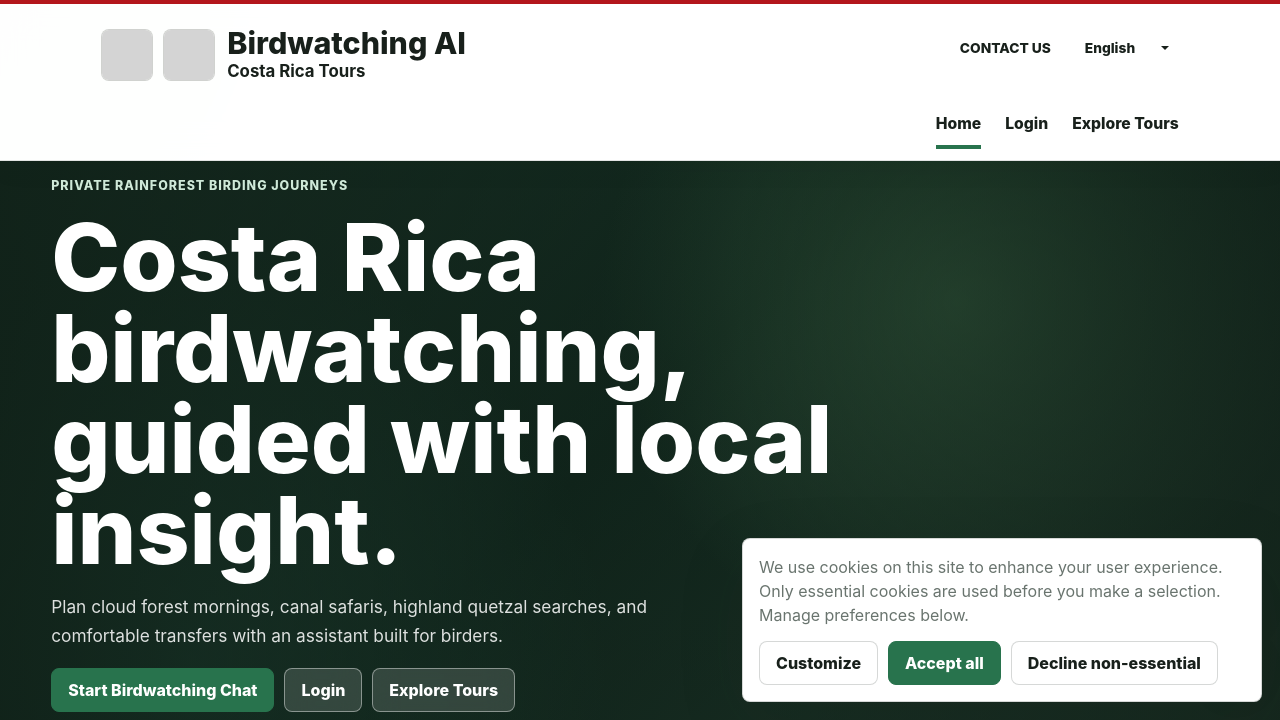
App authentication flow › dismisses the login modal without leaving the homepage
The width and height of the screenshot is (1280, 720).
What coordinates should you click on to do the following:
click the button "Login" next to "Home"
I would click on:
 (1027, 124)
Its box is [1005,100,1048,148].
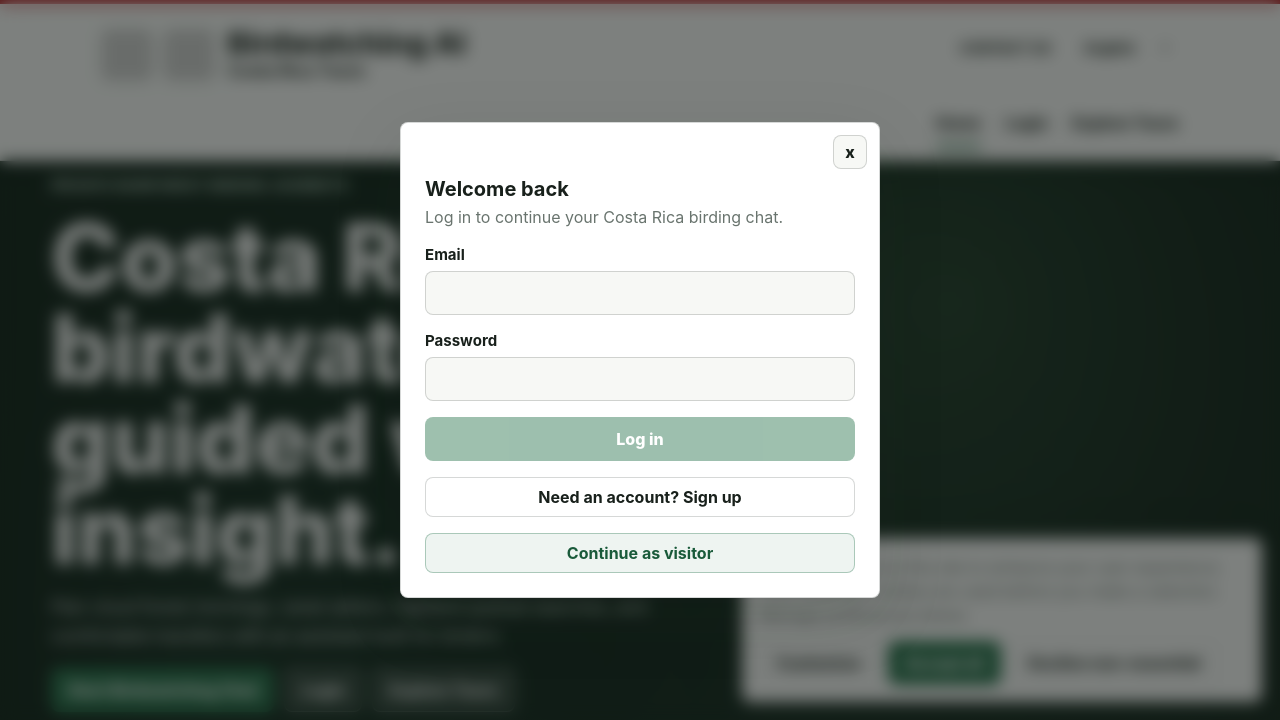
What coordinates should you click on to do the following:
click the button named "close login"
I would click on:
 (850, 152)
Its box is [833,135,867,169].
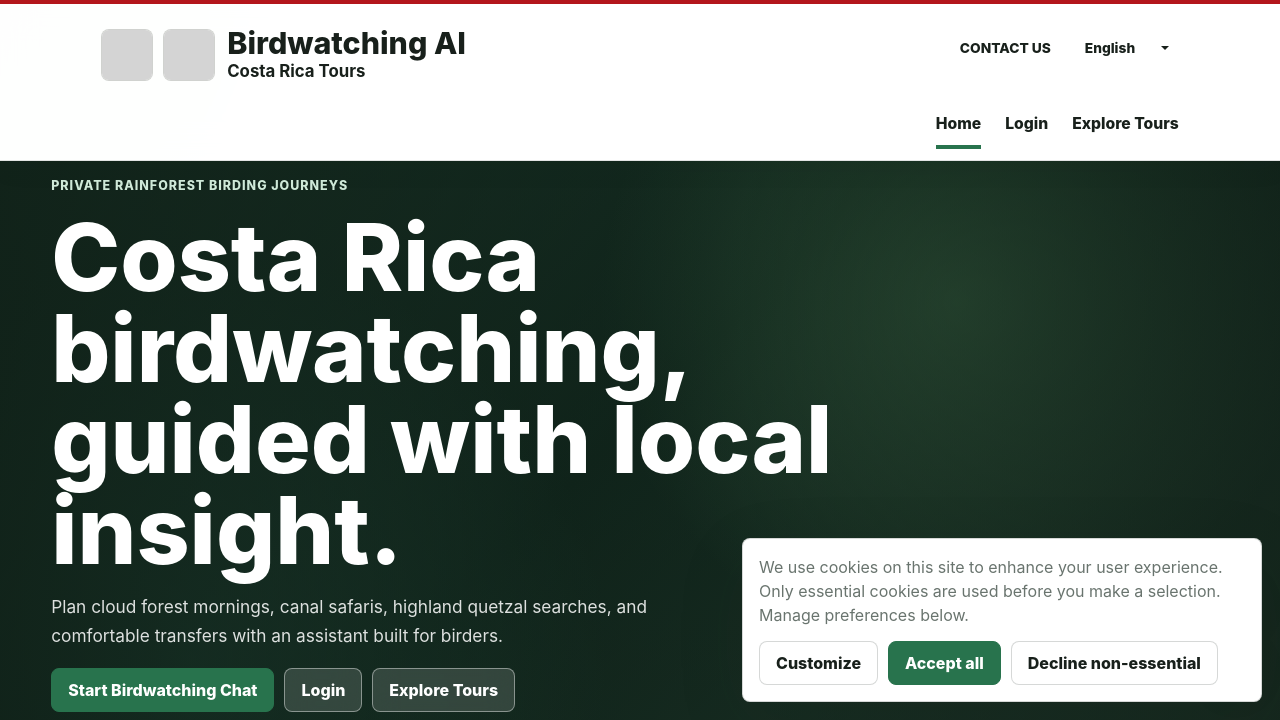
Expected: the heading "Costa Rica birdwatching, guided with local insight." is shown, [51,212,871,576]
Now the dialog is gone
